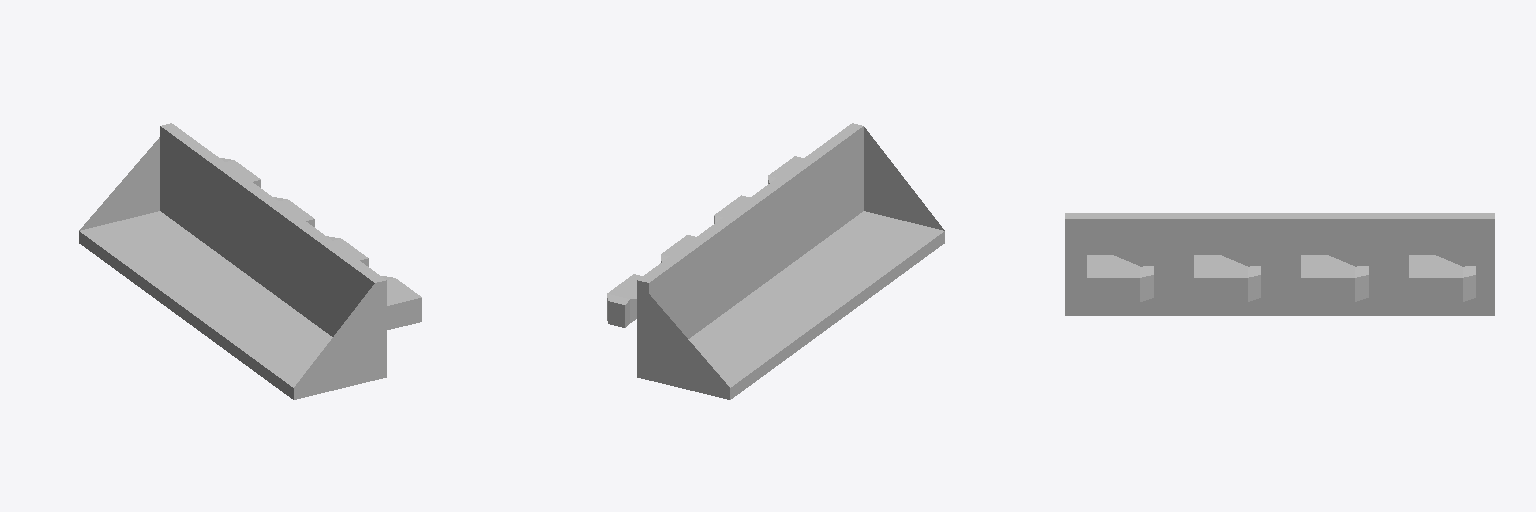
File: cable-holder.obj
The picture shows the model from 3 angles: view 1: azimuth 30°, elevation 25°; view 2: azimuth 150°, elevation 25°; view 3: azimuth 270°, elevation 25°; orthographic projection.
Parts seen in each view (by area): view 1: Cube, Cube.002; view 2: Cube, Cube.006; view 3: Cube, Cube.005, Cube.004, Cube.006, Cube.002.
Boxes of the visible parts, box(x1,y1,x2,y2) form: Cube: box(79, 123, 386, 399); Cube.002: box(381, 276, 421, 329); Cube: box(637, 123, 944, 399); Cube.006: box(607, 274, 642, 327); Cube: box(1065, 213, 1494, 315); Cube.005: box(1301, 255, 1368, 301); Cube.004: box(1194, 255, 1260, 301); Cube.006: box(1409, 255, 1475, 301); Cube.002: box(1087, 255, 1153, 301).
Bounding box in the file's own units: 6 × 4 × 16.